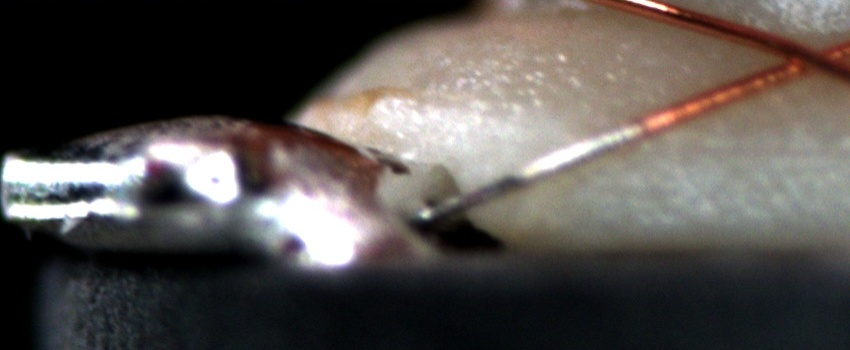CL: (758, 31, 842, 83)
DL: (622, 119, 850, 183)
TS: (409, 120, 642, 227)
